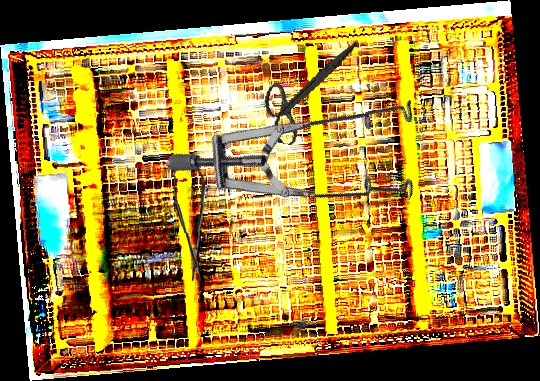Iris Scissors: (256, 26, 360, 155)
Micro Scissor: (172, 155, 209, 282)
Speculum: (163, 9, 454, 282)
